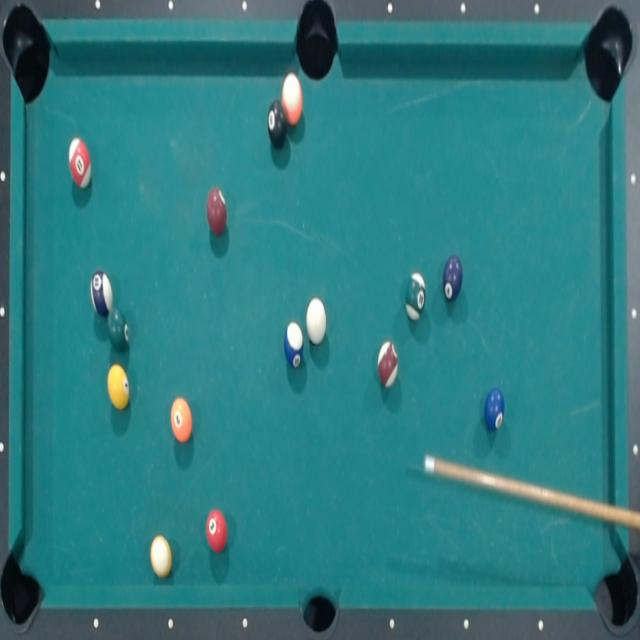black_8ball: (266, 100, 289, 148)
blue_solid: (484, 385, 506, 434)
blue_stripe: (283, 322, 305, 369)
cue_ball: (305, 295, 328, 348)
cue_body: (436, 452, 640, 546)
cue_tip: (422, 452, 436, 476)
green_solid: (107, 306, 131, 352)
green_stripe: (404, 271, 429, 323)
maroon_solid: (207, 188, 230, 237)
maroon_stripe: (378, 340, 400, 388)
orange_solid: (169, 396, 195, 445)
orange_stripe: (281, 74, 307, 125)
playr: (443, 254, 463, 302)
purple_solid: (89, 268, 113, 315)
purple_stripe: (206, 509, 230, 554)
red_solid: (67, 135, 93, 191)
red_stripe: (107, 363, 132, 413)
yellow_solid: (150, 534, 173, 580)
